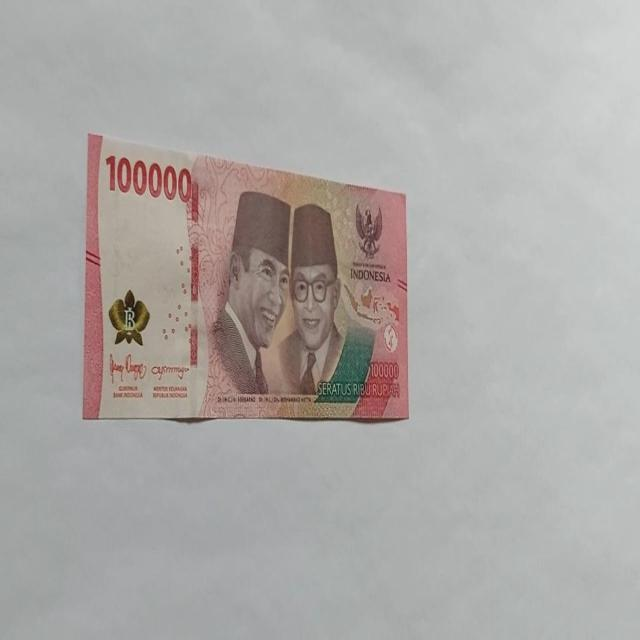Kertas: (82, 132, 410, 423)
